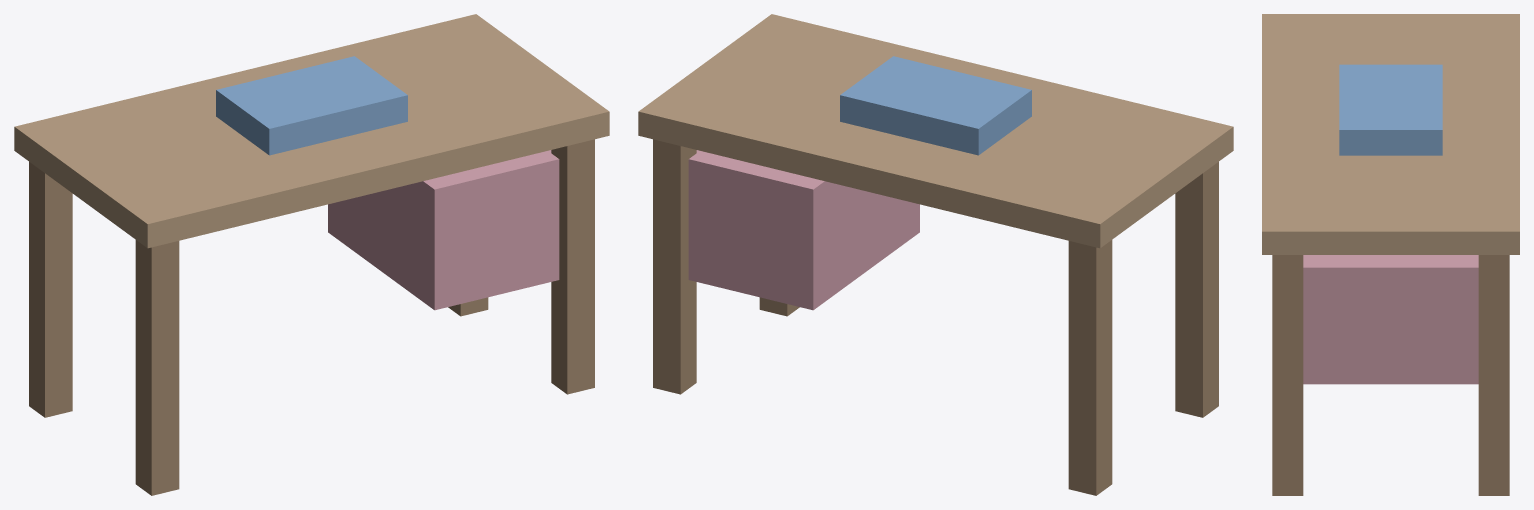
File: kid_escrivaninha_inf.glb
The picture shows the model from 3 angles, left to right: view 1: azimuth 30°, elevation 25°; view 2: azimuth 150°, elevation 25°; view 3: azimuth 270°, elevation 25°; orthographic projection. The views are drawn at different scales.
Visible parts, largest first — view 1: KID_ESCRIVANINHA_INF_v01; view 2: KID_ESCRIVANINHA_INF_v01; view 3: KID_ESCRIVANINHA_INF_v01.
Boxes of the visible parts, x1=… form: KID_ESCRIVANINHA_INF_v01: x1=14, y1=14, x2=609, y2=495; KID_ESCRIVANINHA_INF_v01: x1=638, y1=14, x2=1233, y2=495; KID_ESCRIVANINHA_INF_v01: x1=1262, y1=14, x2=1519, y2=495.
Size of the model in its own units: 1 by 0.63 by 0.5.
